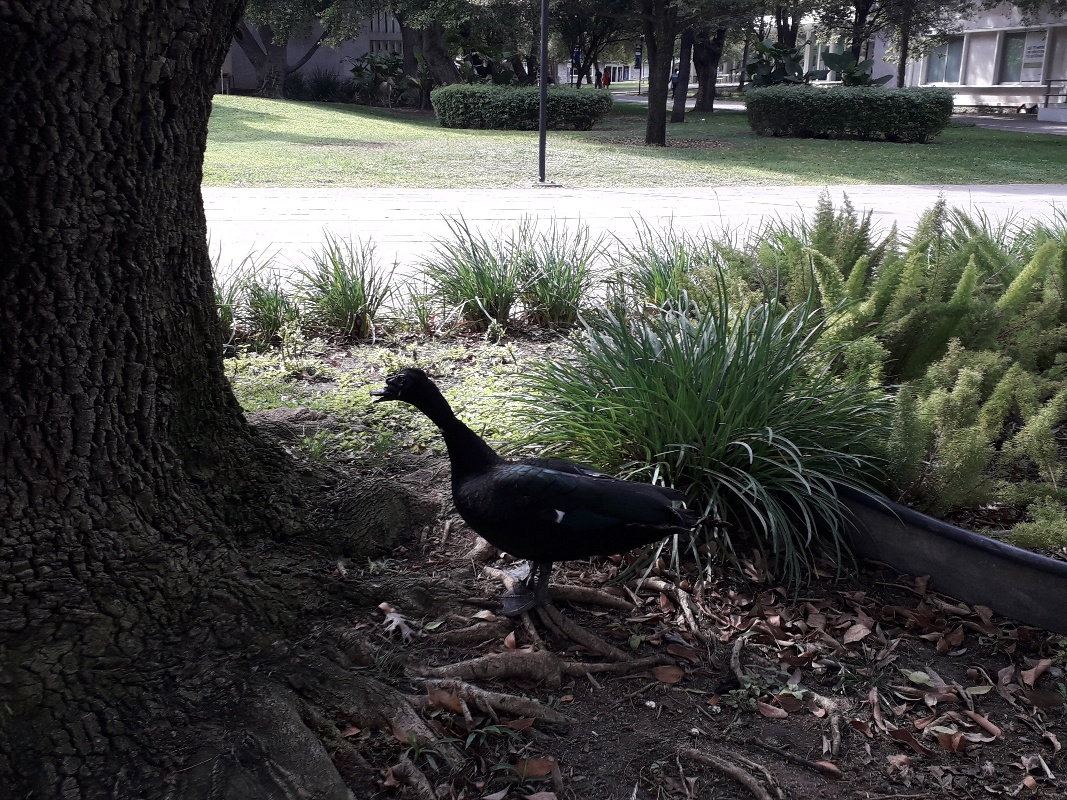pato: (376, 365, 673, 575)
